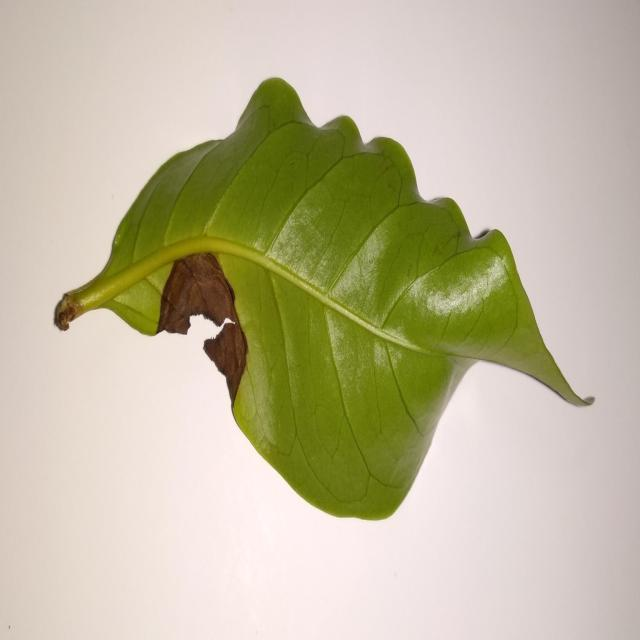Enfermedad-Antracnosis: (52, 78, 596, 523)
